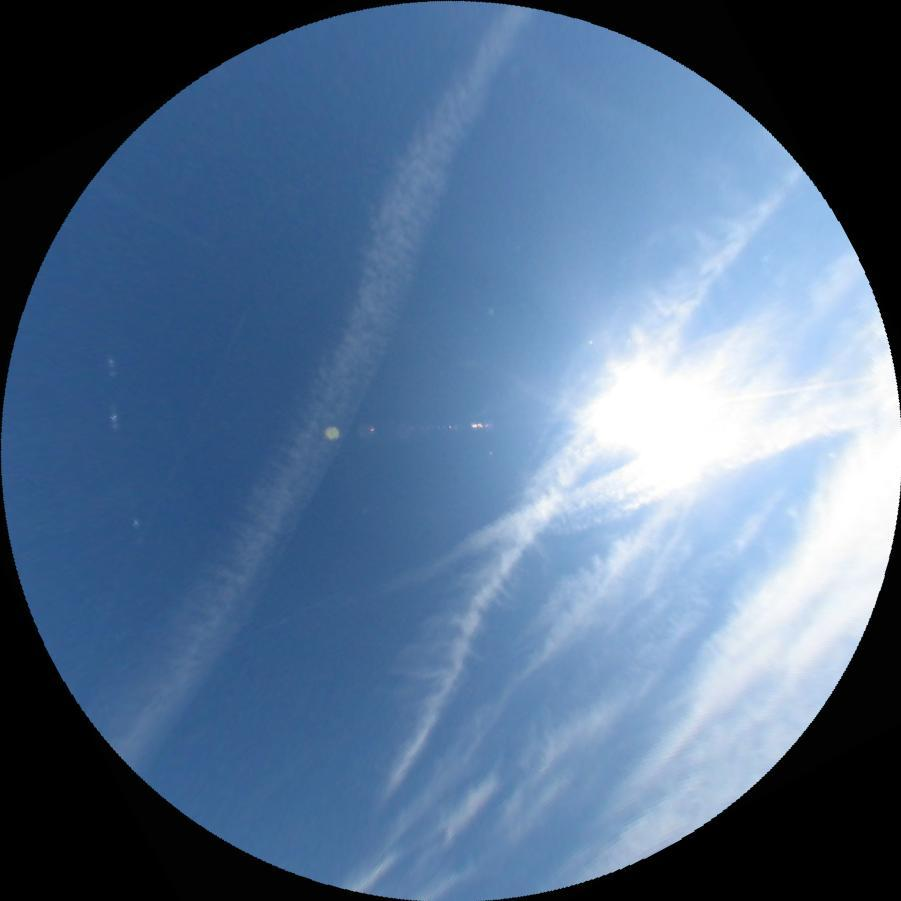contrail veryold: (331, 137, 808, 809), (371, 372, 872, 599)
parasite: (101, 589, 338, 707), (88, 279, 141, 521), (711, 368, 892, 402)
sun: (613, 355, 714, 436)
